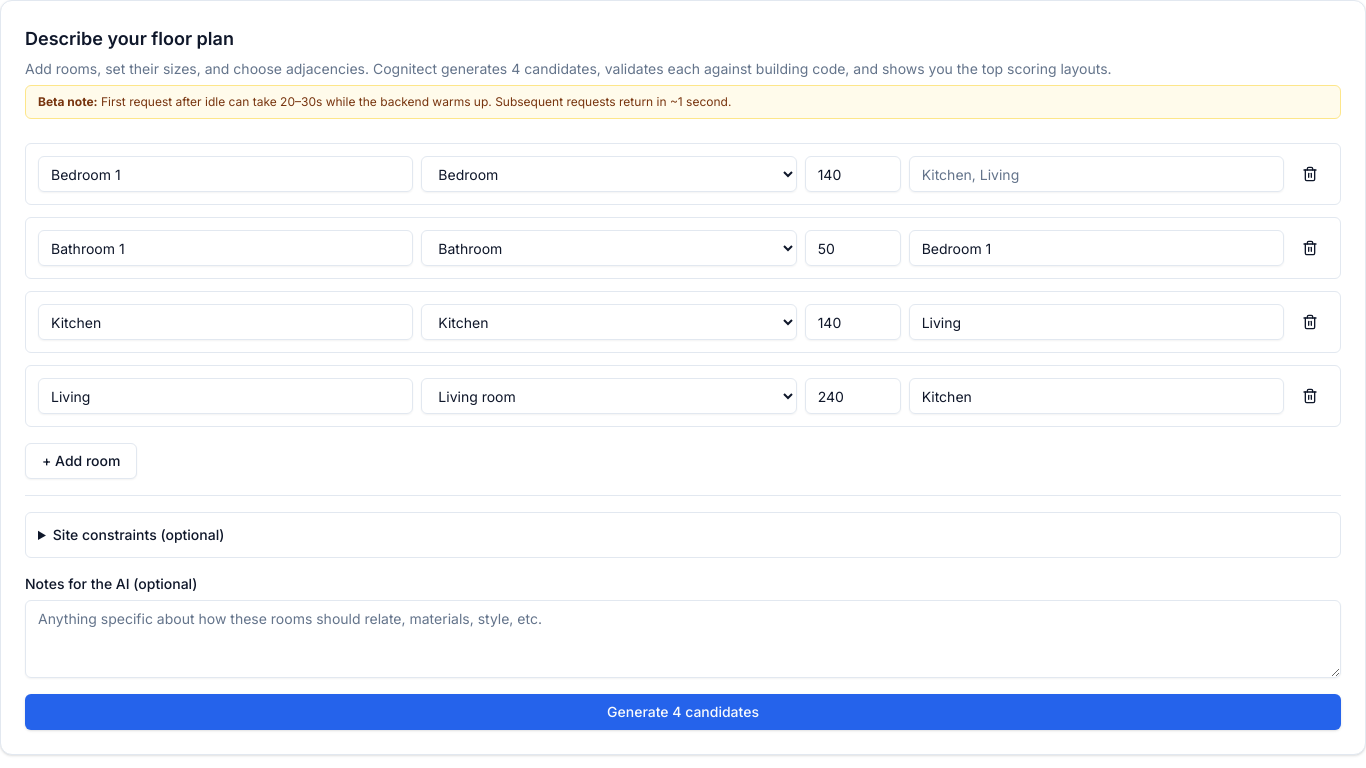
Test: SpecBuilder › disables the submit button when all rooms are removed
Click the 1st button named "Remove room". click: (1310, 174)
box: [1292,156,1328,192]
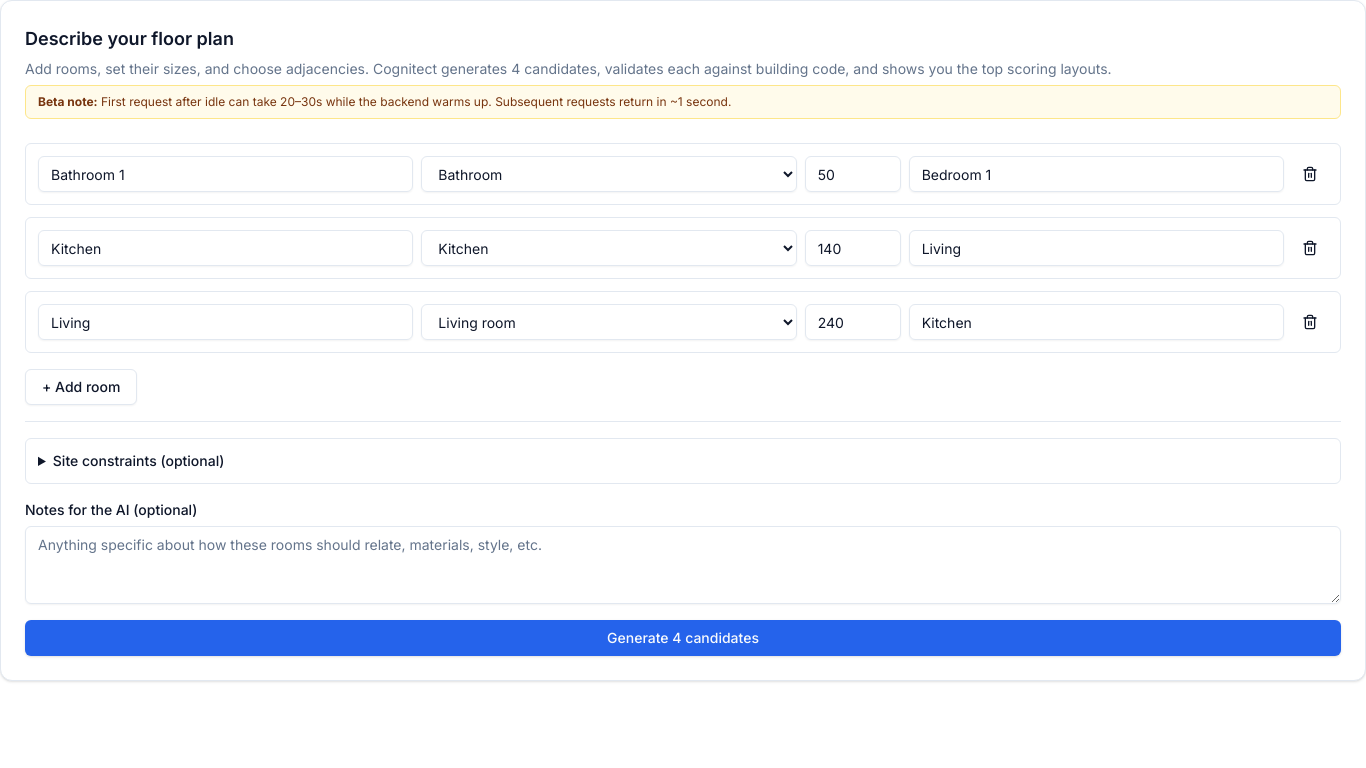
Click the 1st button named "Remove room". click: (1310, 174)
box: [1292,156,1328,192]
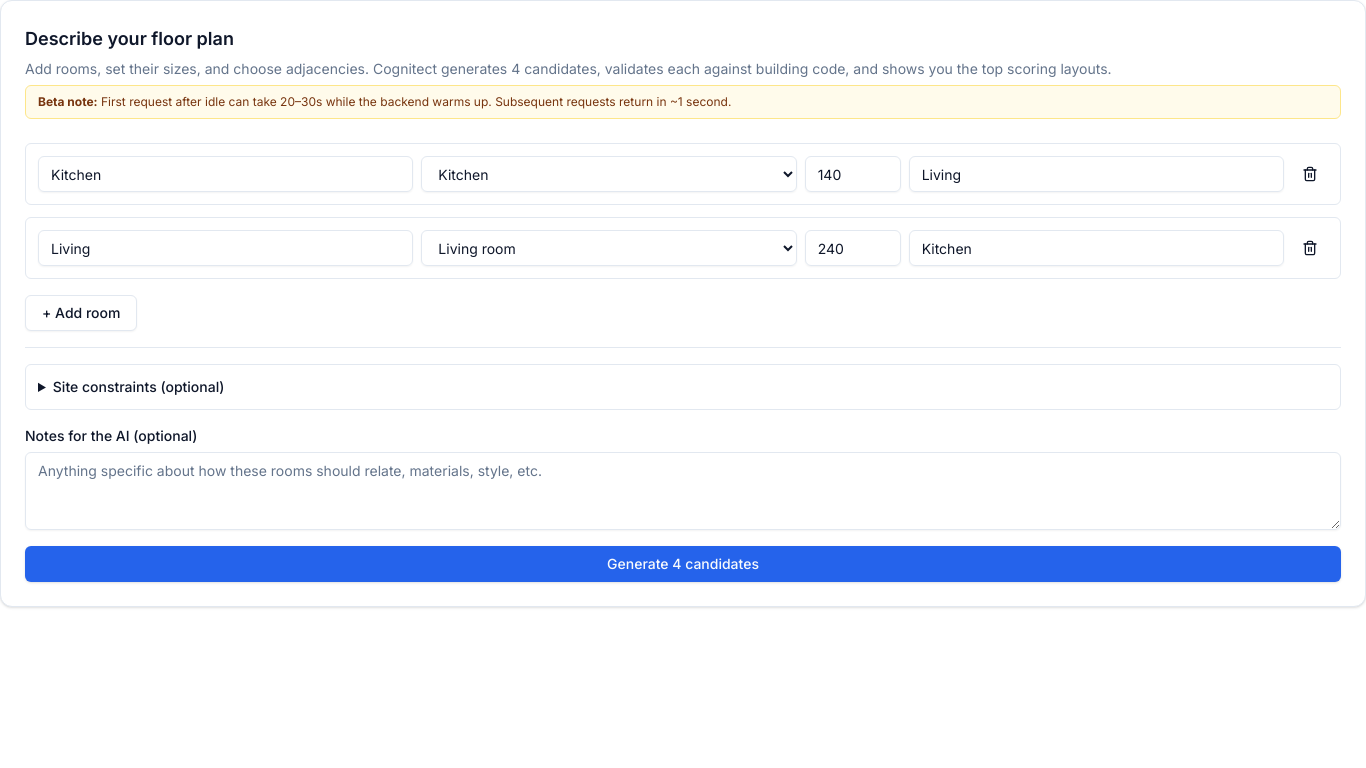
Click the 1st button named "Remove room". click: (1310, 174)
box: [1292,156,1328,192]
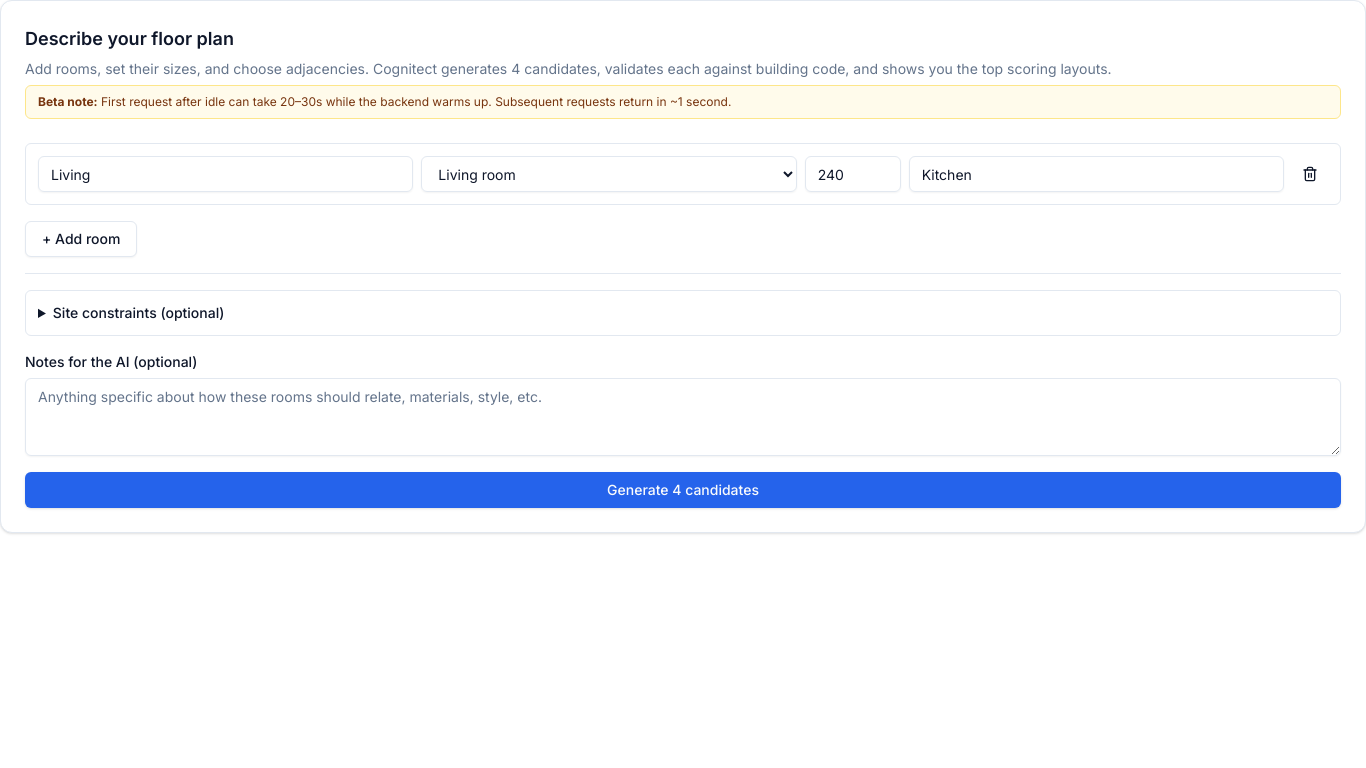
Click the button named "Remove room". click: (1310, 174)
box: [1292,156,1328,192]
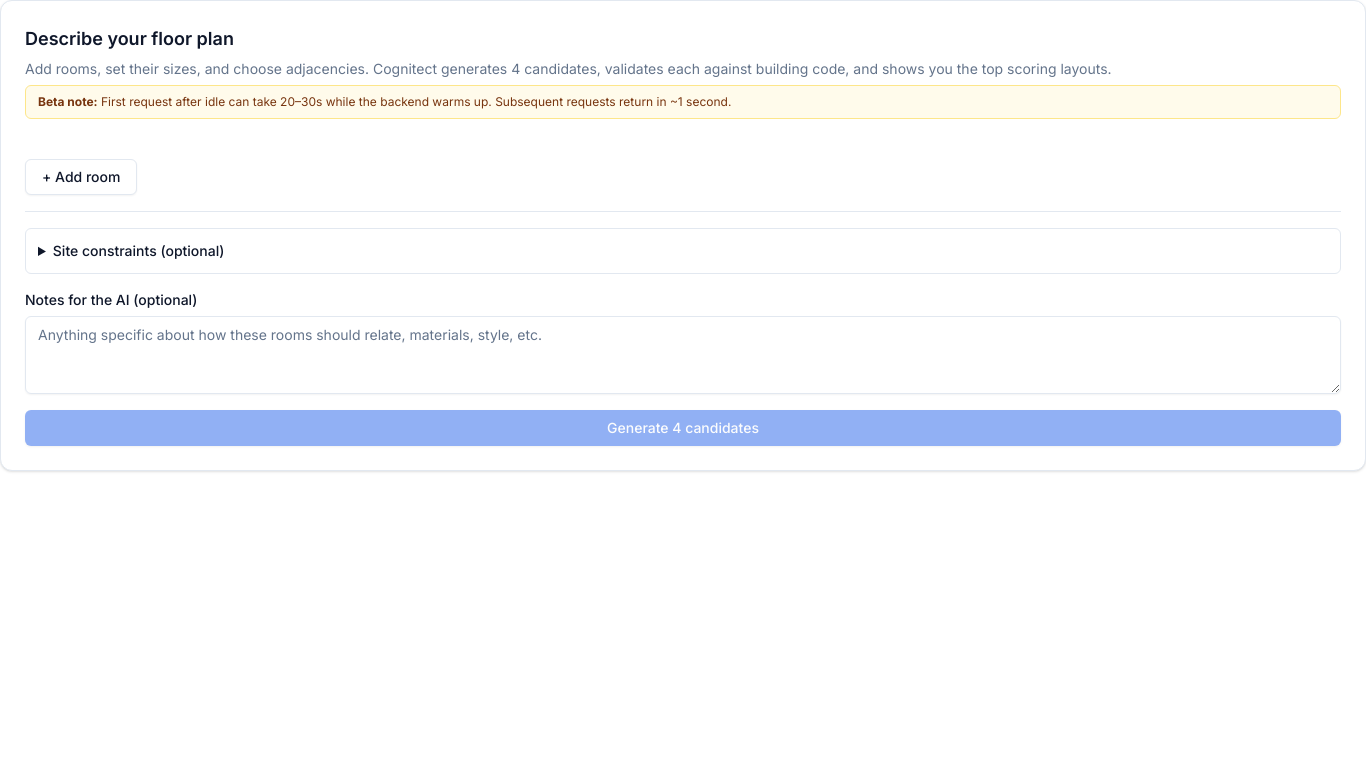
Result: the button "Generate 4 candidates" is disabled at [25,410,1341,446]
